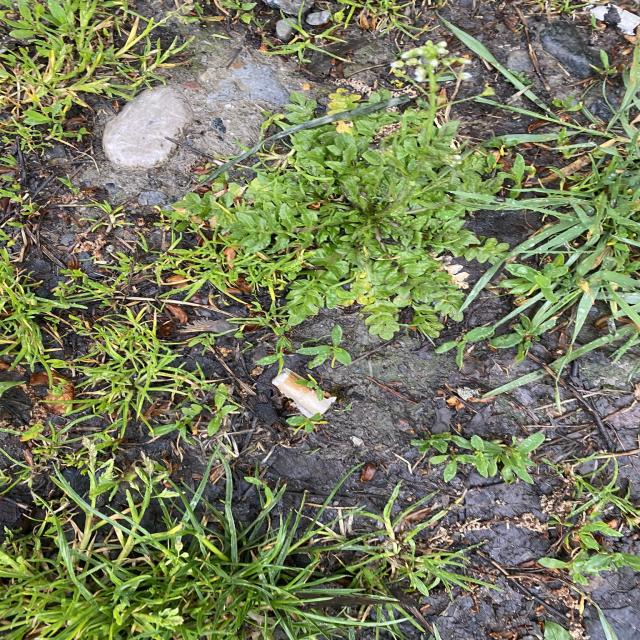other waste: (271, 367, 337, 419)
